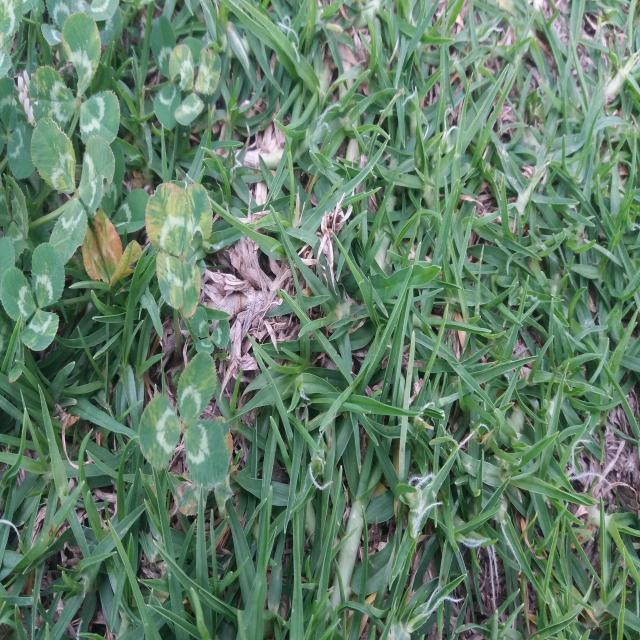Four Leaf Clover: (145, 183, 213, 317)
